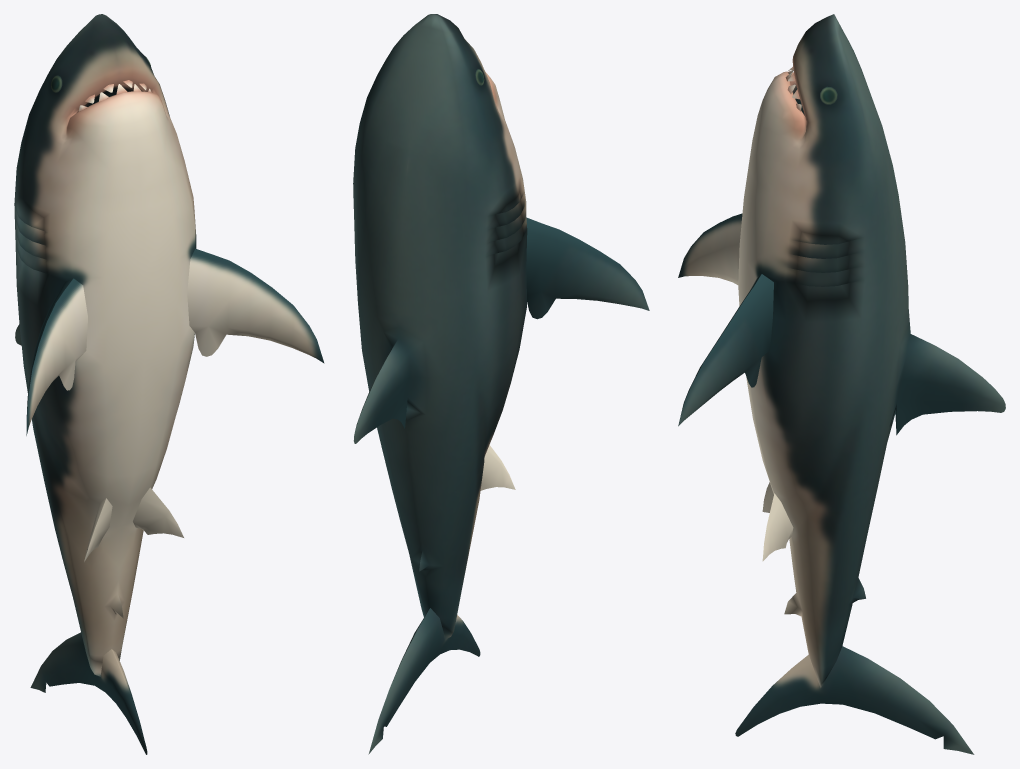
Rendered from great-white-shark.glb.
3 views of the same model, side by side, from view 1: azimuth 30°, elevation 25°; view 2: azimuth 150°, elevation 25°; view 3: azimuth 270°, elevation 25° (orthographic). The views are drawn at different scales.
Visible parts, largest first — view 1: FishSame__mSame; view 2: FishSame__mSame; view 3: FishSame__mSame.
Part boxes in pixels (x1,y1,x2,y2): FishSame__mSame: [14, 14, 324, 754]; FishSame__mSame: [353, 14, 649, 754]; FishSame__mSame: [678, 14, 1005, 754].
Size of the model in its own units: 1.29 by 2.99 by 1.2.
1 material, 1 textured.
